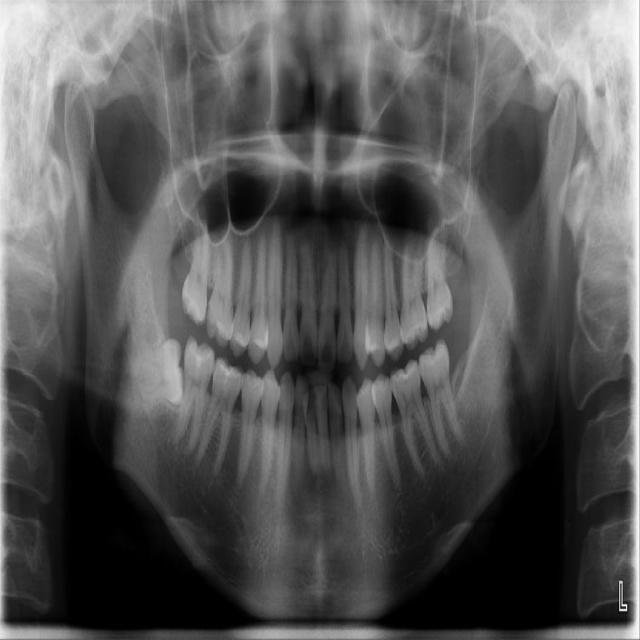impacted tooth: (129, 338, 181, 405)
